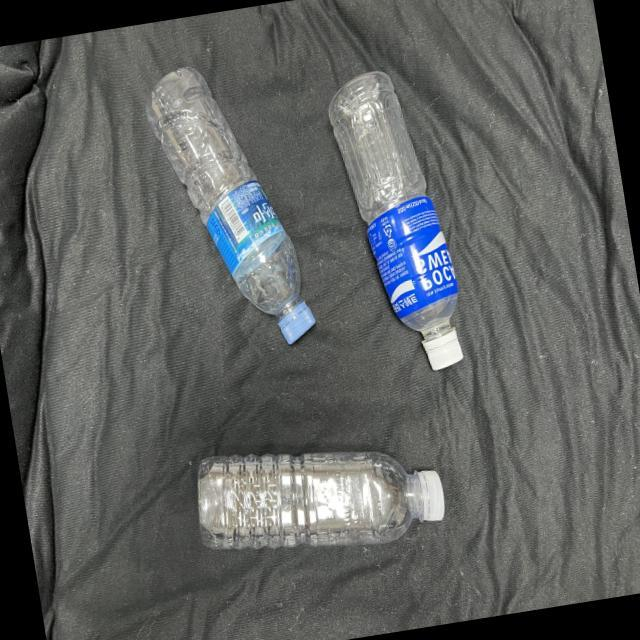good: (133, 51, 335, 368), (312, 53, 489, 391), (180, 424, 460, 567)
